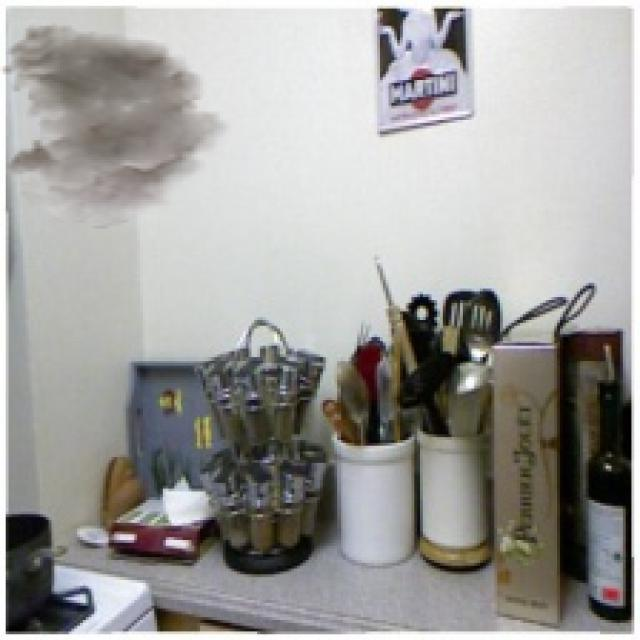Smoke: (0, 22, 235, 229)
